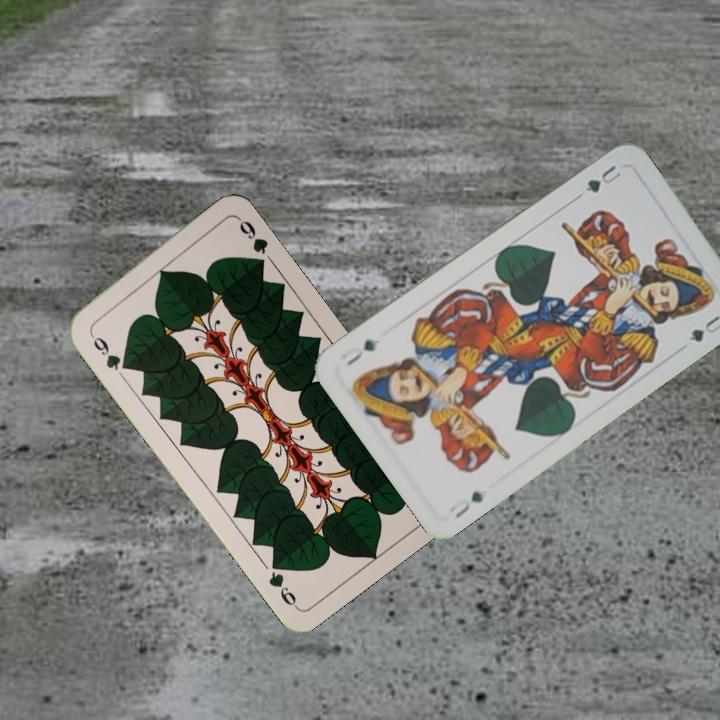G9: (85, 327, 132, 373)
GU: (581, 160, 624, 196), (445, 487, 488, 521)
